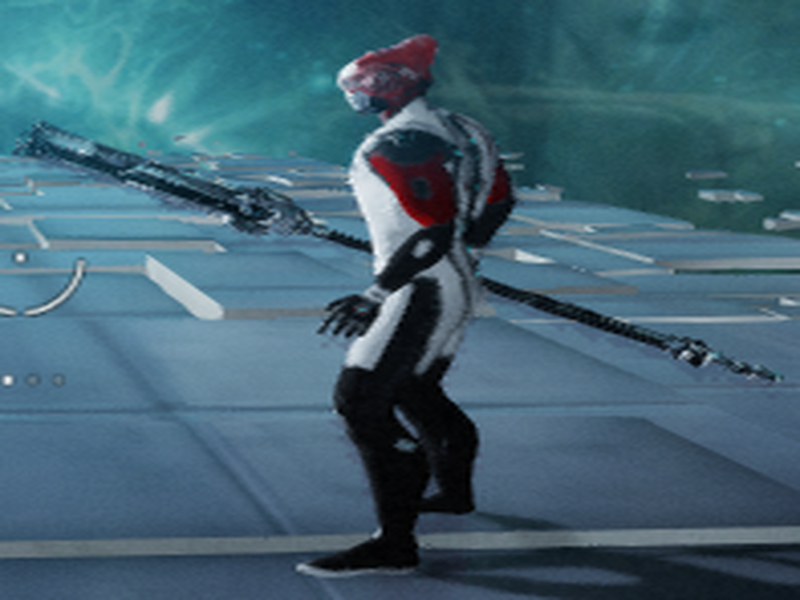corpus: (17, 27, 786, 580)
